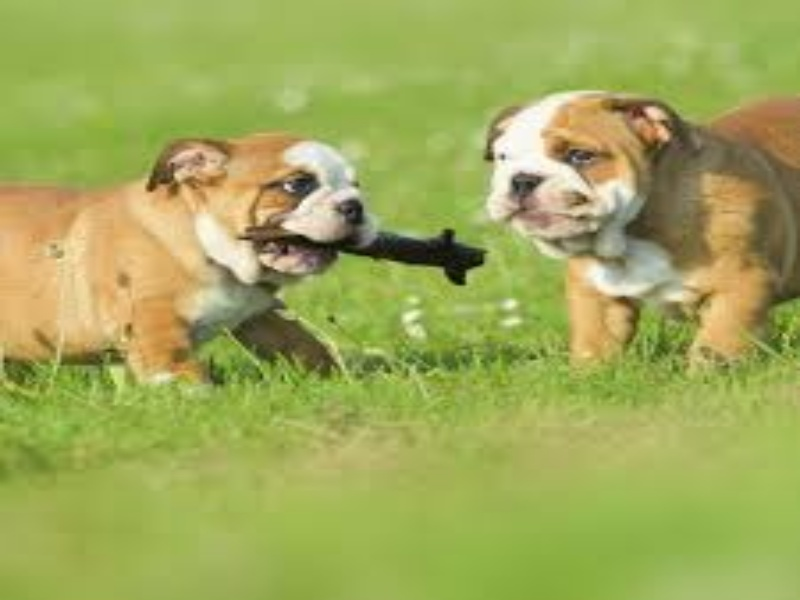dog: (5, 123, 373, 418), (483, 85, 793, 382)
